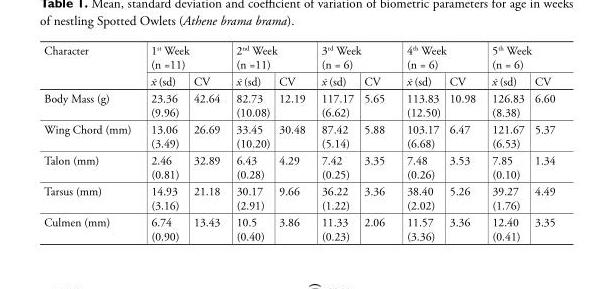table: (43, 42, 554, 243)
table column: (43, 42, 140, 243), (395, 42, 444, 243), (227, 42, 273, 243), (312, 42, 358, 243), (140, 42, 185, 243), (483, 42, 528, 243), (185, 42, 227, 243), (273, 42, 312, 243), (444, 42, 483, 243), (358, 42, 395, 243), (528, 42, 554, 243)
table column header: (43, 42, 554, 89)
table row: (43, 89, 554, 120), (43, 120, 554, 151), (43, 151, 554, 182), (43, 182, 554, 213), (43, 42, 554, 72), (43, 213, 554, 243), (43, 72, 554, 89)
table spanning cell: (43, 42, 140, 89), (395, 42, 483, 72), (140, 42, 227, 72), (227, 42, 312, 72), (312, 42, 395, 72), (483, 42, 554, 72)
